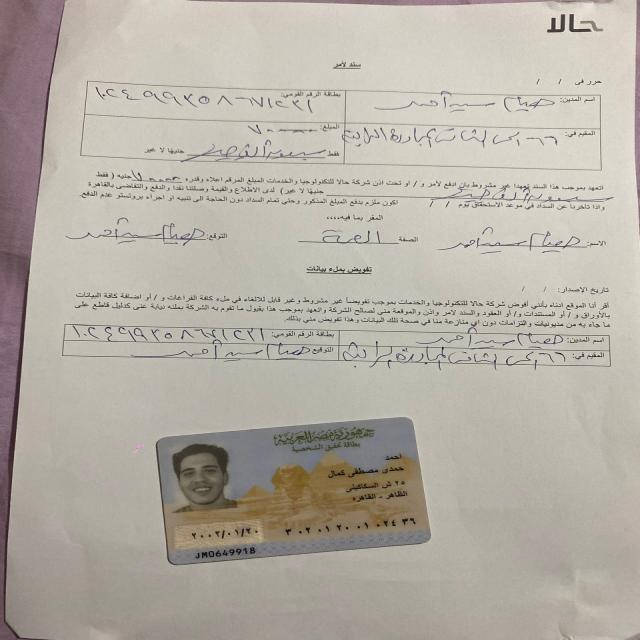ID-cards: (153, 413, 436, 570)
